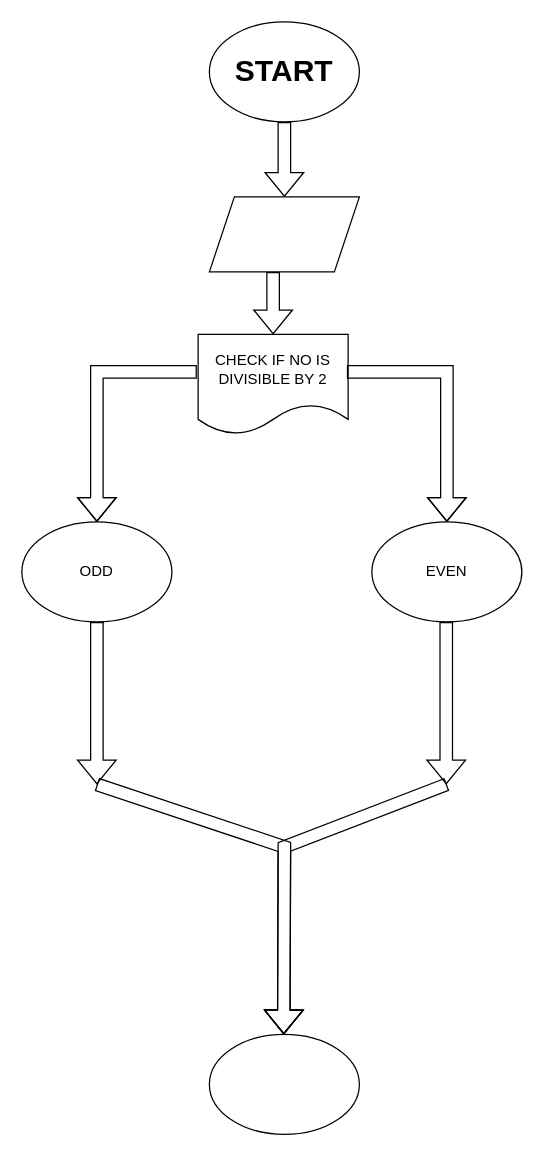
The diagram is 544 pixels wide and 1156 high, and some of its shapes have lost their labels. The centre of each missing label's shape, as x and y in pixels:
"END" belongs at point (283, 1083).
"INPUT NO." belongs at point (283, 234).
